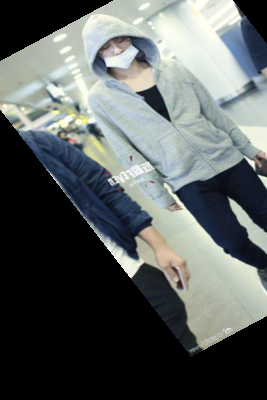mask_weared_incorrect: (78, 12, 157, 88)
